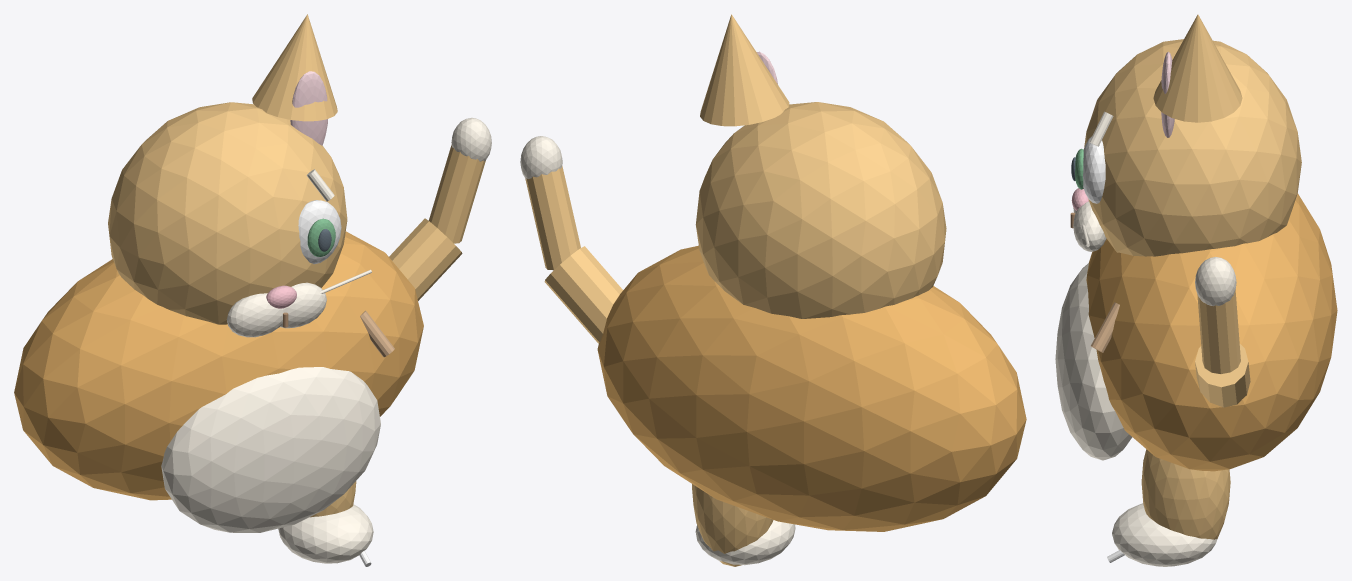
The model's file is cat.glb.
3 views of the same model, side by side, from view 1: azimuth 30°, elevation 25°; view 2: azimuth 150°, elevation 25°; view 3: azimuth 270°, elevation 25° (orthographic). The views are drawn at different scales.
Parts seen in each view (by area): view 1: body, head, chest, ear, paw, tail_tip, tail_base, muzzle_left, inner_ear, eye_white, tail_tip_fluff, muzzle_right (+2 smaller); view 2: body, head, ear, tail_base, tail_tip, leg, paw, tail_tip_fluff; view 3: body, head, chest, leg, ear, paw, tail_tip, tail_base, tail_tip_fluff, eye_white, muzzle_right, back_stripe (+2 smaller).
Part boxes in pixels (bbox=[...]): body: bbox=[14, 231, 423, 500]; head: bbox=[108, 102, 347, 324]; chest: bbox=[161, 367, 380, 532]; ear: bbox=[252, 14, 337, 121]; paw: bbox=[278, 504, 373, 563]; tail_tip: bbox=[428, 145, 485, 243]; tail_base: bbox=[389, 218, 462, 300]; muzzle_left: bbox=[227, 293, 283, 337]; inner_ear: bbox=[290, 71, 327, 145]; eye_white: bbox=[298, 200, 341, 264]; tail_tip_fluff: bbox=[451, 117, 491, 161]; muzzle_right: bbox=[280, 282, 326, 328]; body: bbox=[597, 245, 1026, 531]; head: bbox=[695, 102, 946, 318]; ear: bbox=[700, 14, 789, 126]; tail_base: bbox=[544, 246, 623, 343]; tail_tip: bbox=[525, 166, 580, 270]; leg: bbox=[692, 484, 773, 566]; paw: bbox=[695, 520, 795, 565]; tail_tip_fluff: bbox=[520, 136, 562, 179]; body: bbox=[1086, 193, 1337, 471]; head: bbox=[1084, 39, 1301, 256]; chest: bbox=[1055, 263, 1132, 460]; leg: bbox=[1141, 449, 1230, 539]; ear: bbox=[1153, 14, 1242, 122]; paw: bbox=[1112, 503, 1216, 566]; tail_tip: bbox=[1197, 290, 1240, 373]; tail_base: bbox=[1195, 344, 1250, 407]; tail_tip_fluff: bbox=[1195, 257, 1236, 305]; eye_white: bbox=[1083, 136, 1105, 203]; muzzle_right: bbox=[1073, 201, 1106, 251]; back_stripe: bbox=[1091, 302, 1119, 352].
Size of the model in its own units: 2.31 by 2.5 by 1.17.
